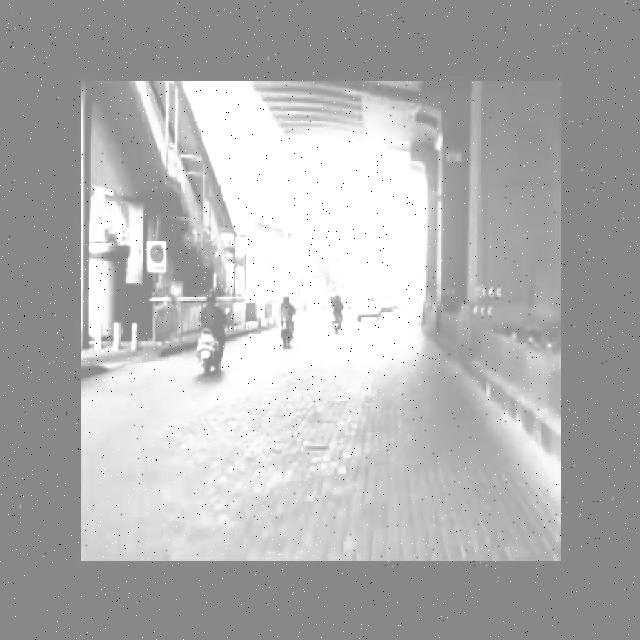Car: (360, 288, 383, 330), (380, 282, 397, 312)
